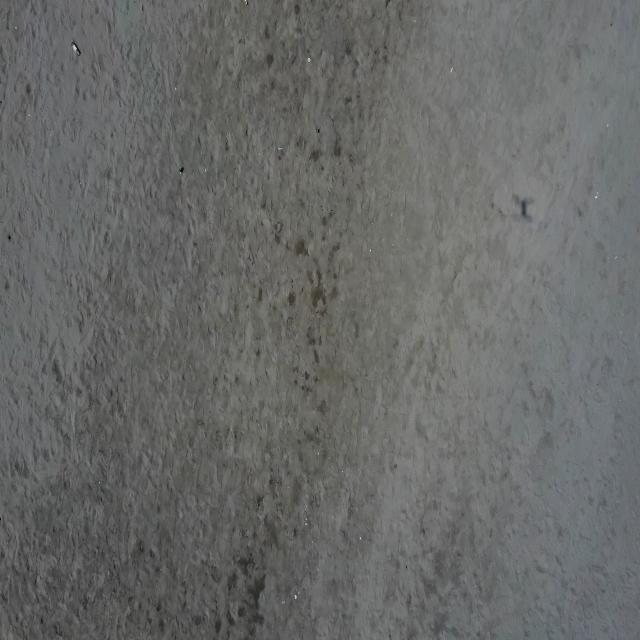glass: (71, 42, 80, 56)
